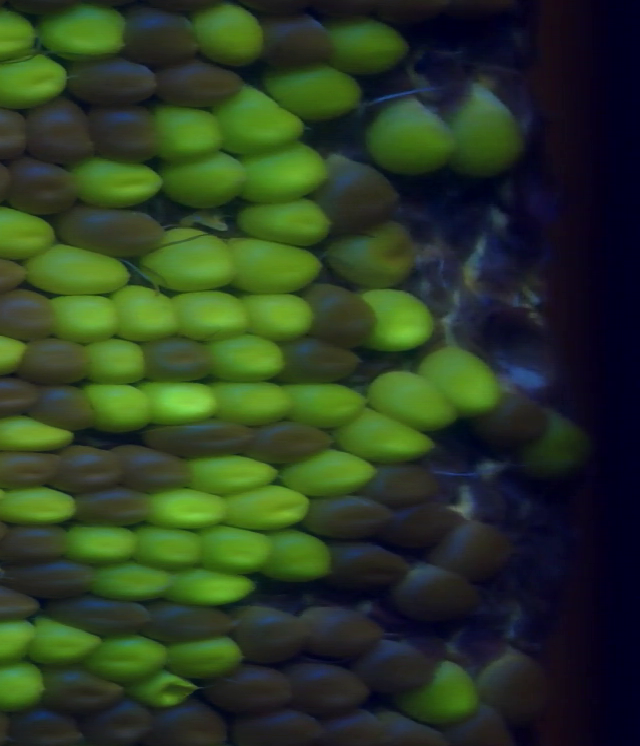fluorescent: (453, 78, 525, 180), (518, 400, 597, 492), (373, 102, 467, 176), (329, 222, 419, 297), (333, 402, 437, 466), (318, 15, 415, 80), (213, 85, 301, 155), (366, 369, 460, 434), (191, 1, 272, 76), (222, 233, 322, 293), (146, 227, 241, 289), (229, 197, 340, 250), (399, 661, 486, 728), (37, 6, 132, 65), (238, 144, 328, 205), (157, 150, 248, 210), (21, 244, 130, 294), (263, 67, 365, 120), (425, 345, 500, 416), (0, 476, 86, 536), (257, 528, 339, 589), (210, 369, 299, 424), (168, 287, 256, 342), (360, 288, 435, 352), (140, 487, 235, 537), (275, 450, 380, 495), (84, 555, 180, 604), (88, 632, 173, 687), (152, 99, 225, 163), (30, 612, 103, 676), (77, 376, 156, 435), (109, 282, 180, 347), (38, 289, 126, 341), (237, 290, 323, 343), (75, 156, 165, 205), (141, 375, 227, 426), (161, 638, 251, 685), (165, 563, 253, 611), (185, 451, 288, 492), (284, 378, 369, 426), (0, 55, 71, 112), (85, 331, 153, 390), (209, 332, 288, 382), (197, 523, 271, 576), (219, 483, 304, 528), (62, 521, 145, 566), (126, 666, 205, 713), (132, 522, 209, 567), (0, 205, 60, 262), (0, 414, 85, 454), (0, 1, 39, 67), (0, 664, 50, 714), (0, 618, 41, 677), (0, 328, 32, 376)
nonfluorescent: (319, 157, 405, 237), (50, 206, 167, 262), (32, 656, 128, 720), (115, 1, 207, 67), (83, 96, 169, 165), (392, 562, 484, 623), (478, 388, 555, 460), (432, 516, 515, 579), (42, 590, 153, 637), (279, 656, 370, 713), (143, 416, 258, 461), (482, 655, 555, 725), (201, 666, 303, 715), (351, 632, 430, 694), (246, 416, 333, 472), (232, 604, 316, 662), (306, 282, 378, 348), (27, 99, 96, 167), (64, 58, 161, 104), (259, 14, 338, 70), (150, 57, 242, 105), (113, 439, 200, 489), (323, 538, 397, 596), (74, 696, 159, 746), (306, 494, 395, 540), (304, 606, 380, 659), (17, 334, 92, 387), (373, 457, 446, 510), (3, 157, 75, 210), (226, 710, 331, 746), (281, 336, 358, 385), (151, 700, 233, 746), (29, 381, 101, 433), (142, 603, 234, 643), (392, 502, 468, 550), (57, 442, 125, 494), (1, 557, 94, 595), (68, 486, 152, 528), (145, 340, 219, 386), (374, 705, 455, 746), (8, 704, 83, 746), (0, 519, 68, 565), (0, 284, 56, 334), (0, 450, 64, 488), (448, 712, 515, 746), (319, 713, 386, 746), (0, 371, 40, 416), (0, 580, 38, 627)
